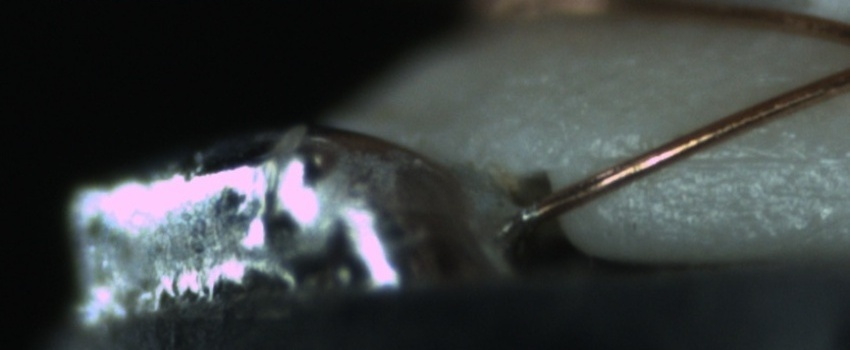DL: (642, 132, 848, 185)
